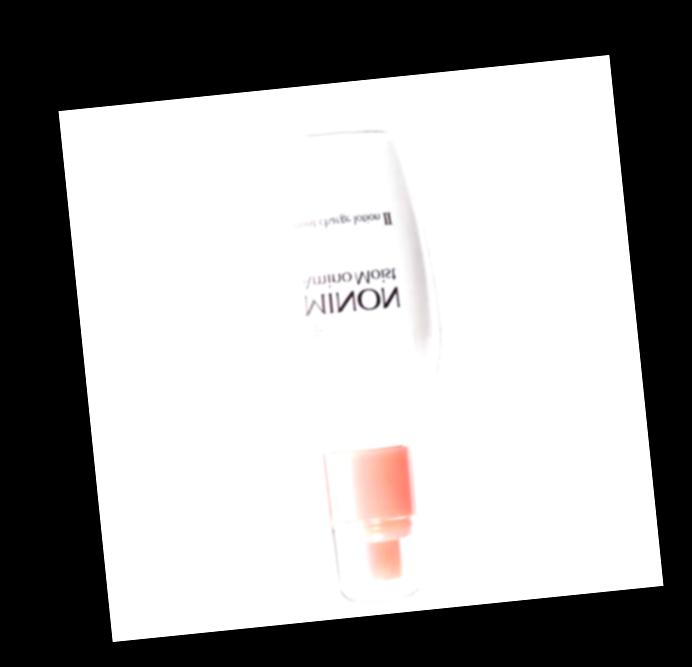cosmetic: (247, 120, 469, 615)
